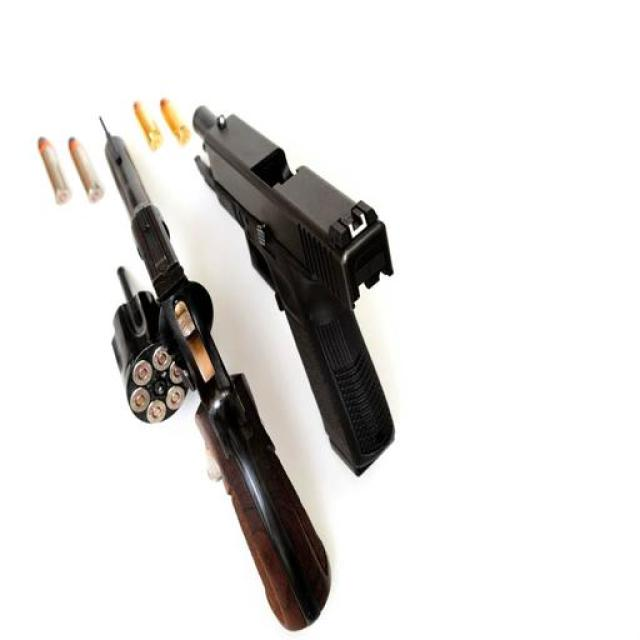pistol: (95, 114, 330, 633), (190, 103, 395, 478)
